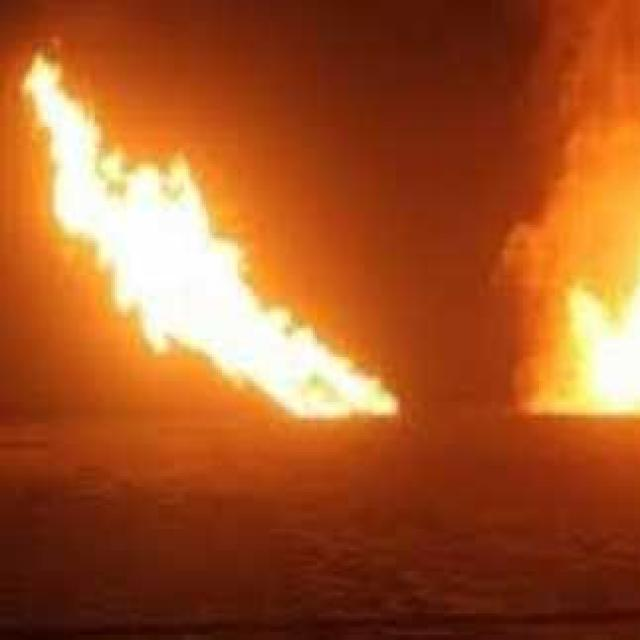Fire: (24, 50, 402, 420), (511, 235, 640, 423)
